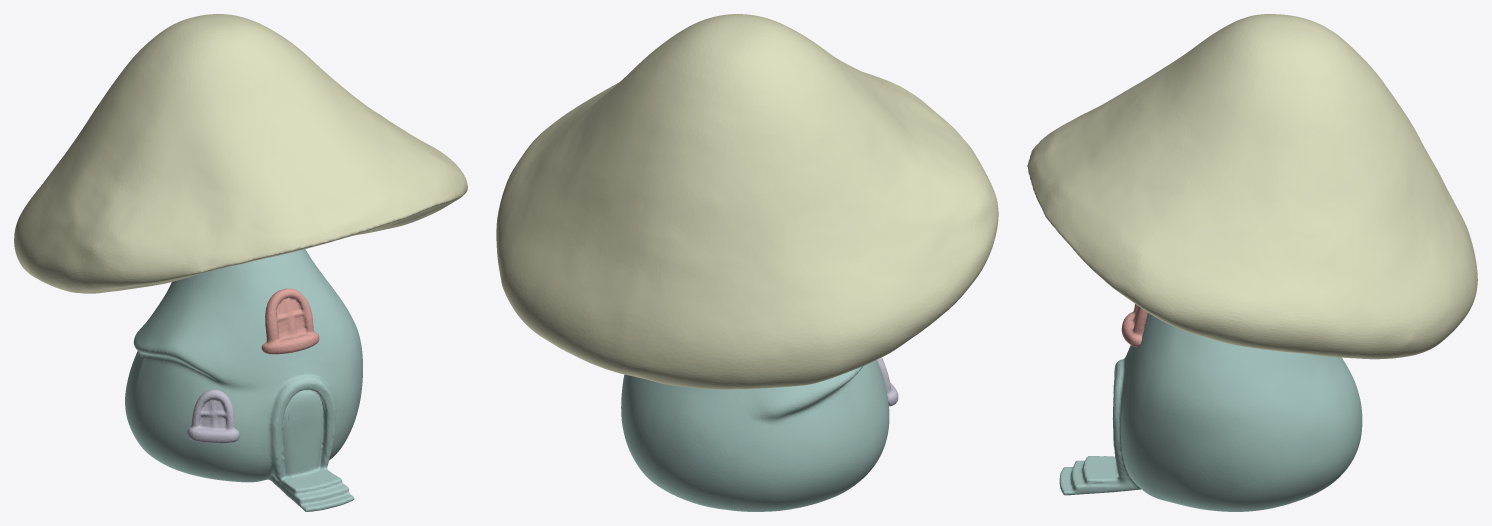
File: mushroom.glb
3 renders of one model, left to right at view 1: azimuth 30°, elevation 25°; view 2: azimuth 150°, elevation 25°; view 3: azimuth 270°, elevation 25°, orthographic. The views are drawn at different scales.
Parts seen in each view (by area): view 1: world; view 2: world; view 3: world.
Part boxes in pixels (x1,y1,x2,y2): world: [14, 14, 467, 511]; world: [496, 14, 998, 511]; world: [1027, 14, 1477, 511].
Size of the model in its own units: 1.68 by 1.71 by 1.55.
